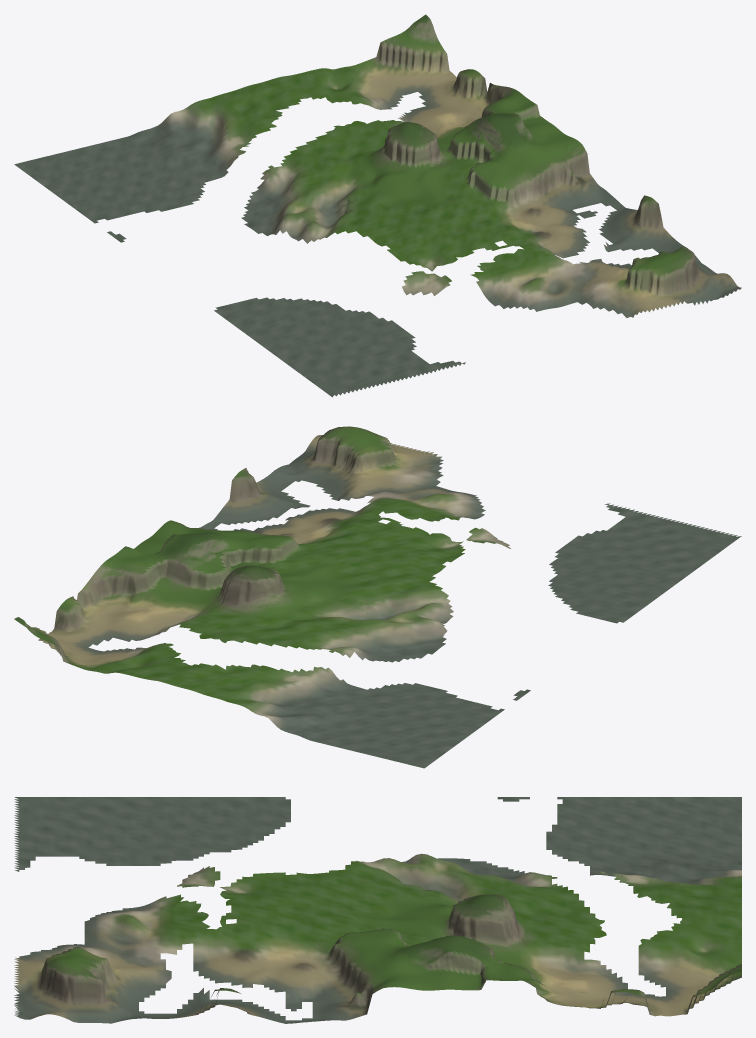
File: coast_tile_x0z1.glb
3 views of the same model, one above another, from view 1: azimuth 30°, elevation 25°; view 2: azimuth 150°, elevation 25°; view 3: azimuth 270°, elevation 25° (orthographic). The views are drawn at different scales.
Visible parts, largest first — view 1: coast_tile_x0z1; view 2: coast_tile_x0z1; view 3: coast_tile_x0z1.
Part boxes in pixels (bbox=[...]): coast_tile_x0z1: bbox=[14, 14, 741, 397]; coast_tile_x0z1: bbox=[14, 426, 741, 768]; coast_tile_x0z1: bbox=[14, 797, 741, 1023].
Bounding box in the file's own units: 600 × 71.53 × 804.
